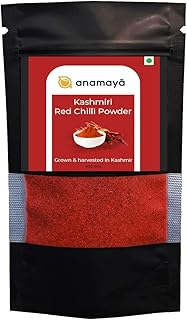Chilli Powder: (3, 3, 187, 319)
